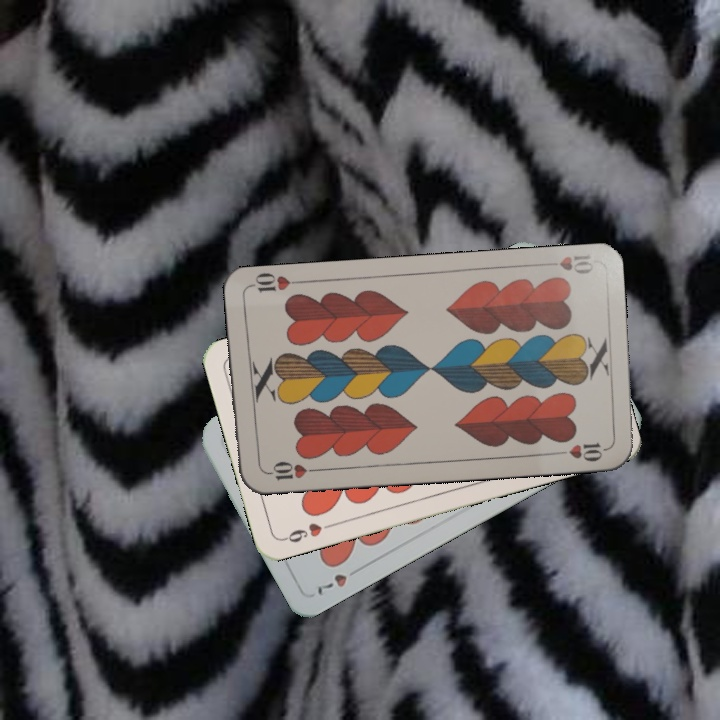H10: (537, 250, 596, 277), (261, 457, 320, 483)
H7: (313, 562, 364, 599)
H9: (279, 519, 337, 545)
